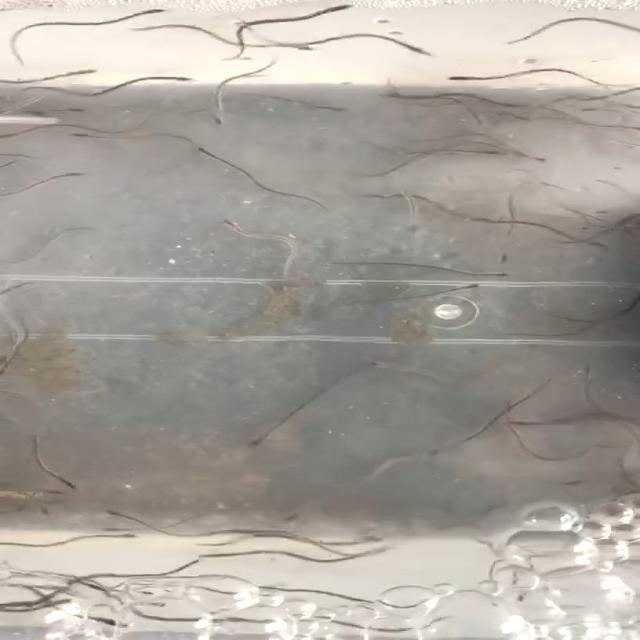active_glass_eel: (376, 86, 430, 106), (82, 613, 136, 631), (212, 216, 254, 238), (73, 125, 124, 141), (46, 102, 90, 120), (402, 39, 441, 59), (242, 430, 276, 452), (132, 0, 184, 14), (148, 74, 200, 88), (274, 506, 306, 528), (192, 142, 226, 162), (321, 0, 369, 14), (444, 68, 491, 82), (92, 530, 136, 544), (423, 442, 452, 463), (470, 268, 512, 282), (447, 279, 488, 293), (314, 102, 358, 115), (578, 237, 615, 252), (57, 166, 91, 182), (370, 358, 404, 374), (208, 108, 232, 130), (52, 474, 85, 490), (472, 143, 509, 157), (276, 41, 322, 52), (523, 147, 553, 163), (510, 418, 550, 430), (34, 500, 56, 518), (100, 506, 128, 519), (578, 104, 614, 114), (496, 248, 514, 268), (397, 222, 419, 238), (100, 524, 137, 533), (66, 66, 98, 76), (0, 357, 12, 378)
